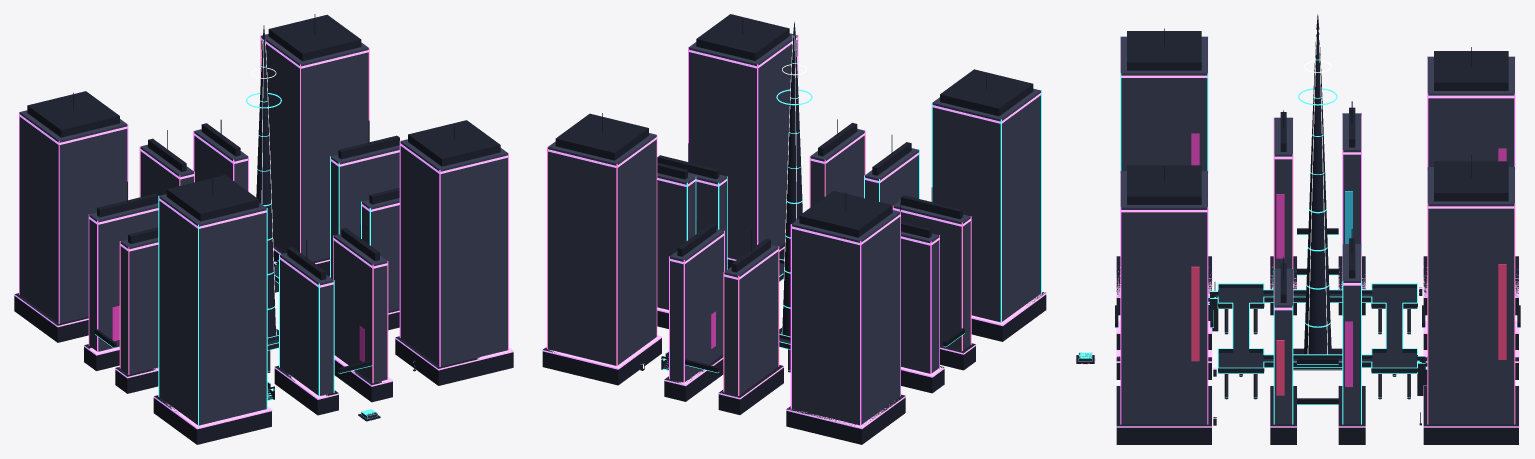
The picture shows the model from 3 angles, left to right: view 1: azimuth 30°, elevation 25°; view 2: azimuth 150°, elevation 25°; view 3: azimuth 270°, elevation 25°; orthographic projection. The views are drawn at different scales.
Visible parts, largest first — view 1: district_city_cero.lod0; view 2: district_city_cero.lod0; view 3: district_city_cero.lod0.
Part boxes in pixels (x1,y1,x2,y2): district_city_cero.lod0: (14, 14, 513, 444); district_city_cero.lod0: (542, 14, 1046, 444); district_city_cero.lod0: (1075, 14, 1520, 444).
Bounding box in the file's own units: 97.85 × 92.01 × 107.
